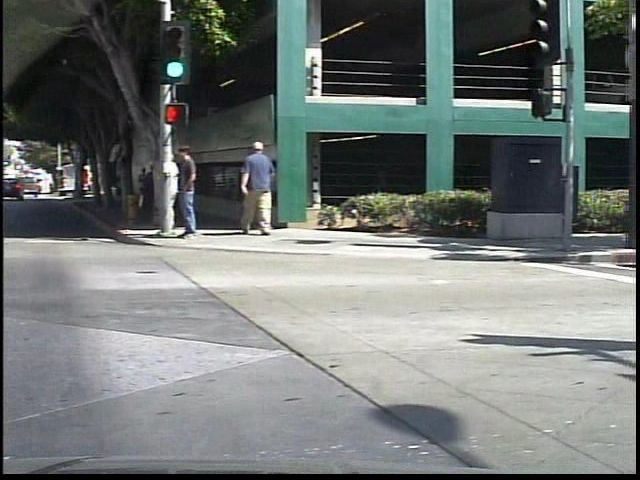person: (239, 138, 293, 236), (172, 140, 211, 246), (164, 147, 190, 231), (156, 164, 174, 220)
